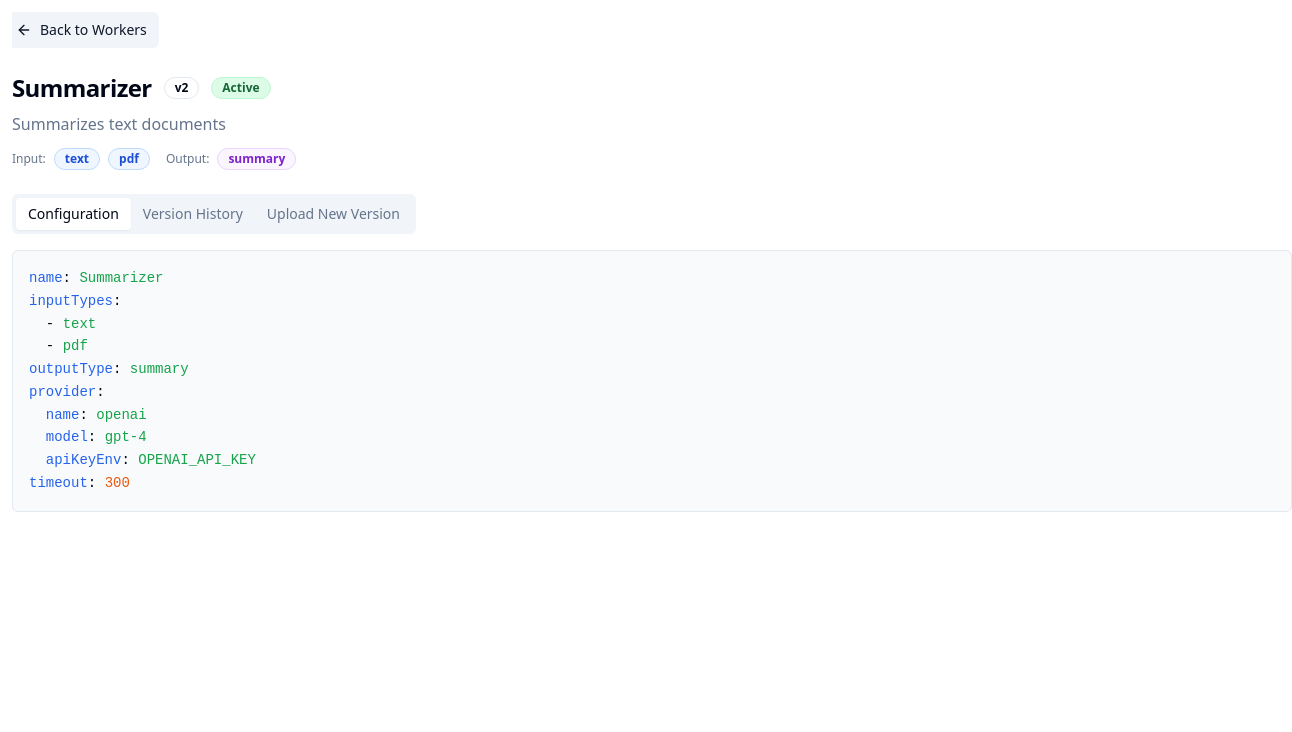
it: WorkerDetailPage › Tabs › switches to Version History tab
The width and height of the screenshot is (1292, 732).
Expected: the heading "Summarizer" is shown, [12, 72, 152, 104]
Click the tab "Version History" at (193, 214), box [131, 198, 255, 230]
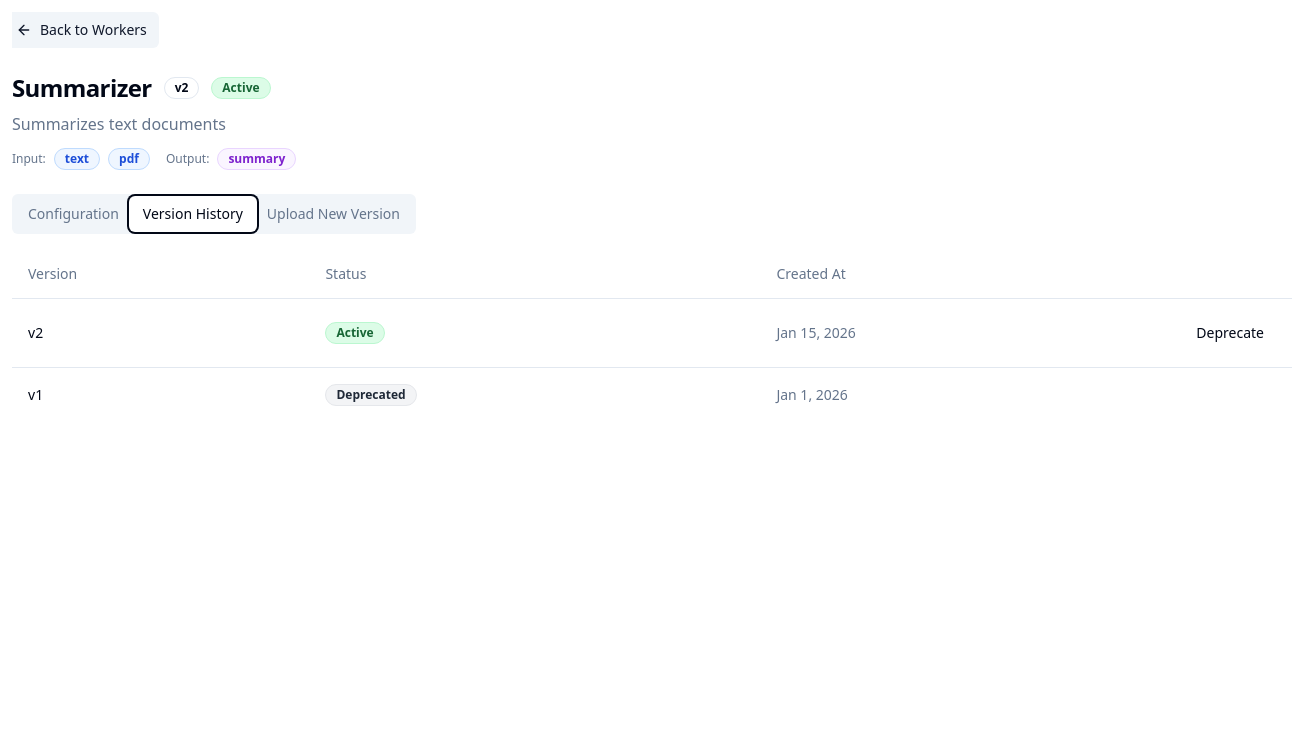
Expected: the text "v1" is shown, [12, 367, 309, 422]
